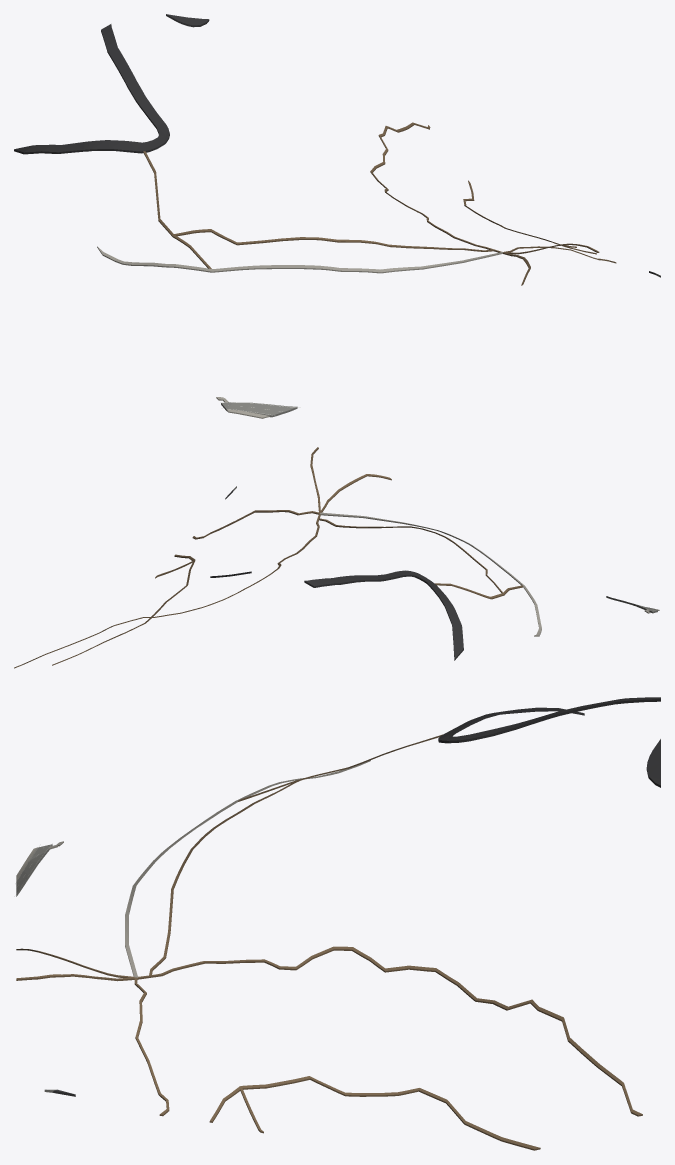
The picture shows the model from 3 angles, top to bottom: view 1: azimuth 30°, elevation 25°; view 2: azimuth 150°, elevation 25°; view 3: azimuth 270°, elevation 25°; orthographic projection. The views are drawn at different scales.
Bounding box in the file's own units: 296 × 128 × 293.
